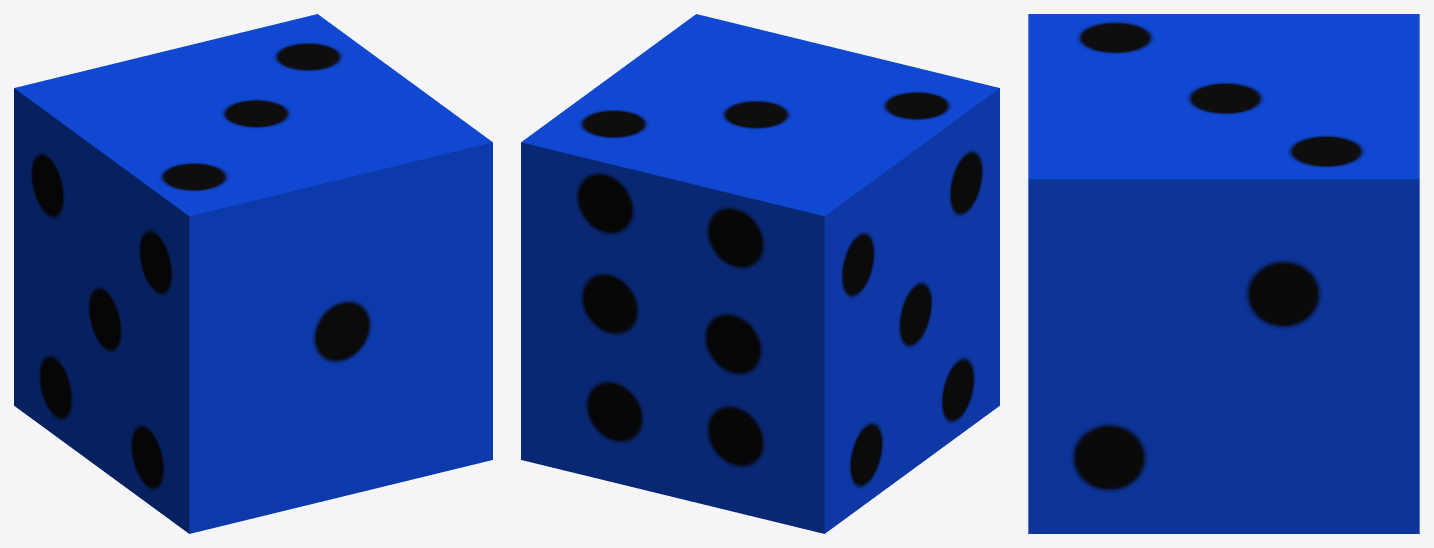
File: diceblue.fbx
The picture shows the model from 3 angles, left to right: view 1: azimuth 30°, elevation 25°; view 2: azimuth 150°, elevation 25°; view 3: azimuth 270°, elevation 25°; orthographic projection. The views are drawn at different scales.
Visible parts, largest first — view 1: pCube3; view 2: pCube3; view 3: pCube3.
Boxes of the visible parts, box(x1,y1,x2,y2) form: pCube3: box(14, 14, 492, 533); pCube3: box(521, 14, 999, 533); pCube3: box(1028, 14, 1419, 533).
Bounding box in the file's own units: 1 × 1 × 1.
Materials: 1 (1 with a texture image).
